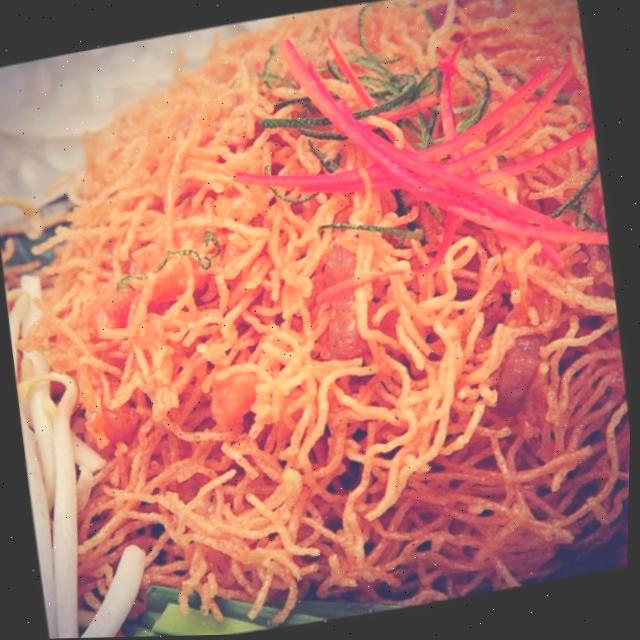面条主食: (0, 0, 636, 631)
